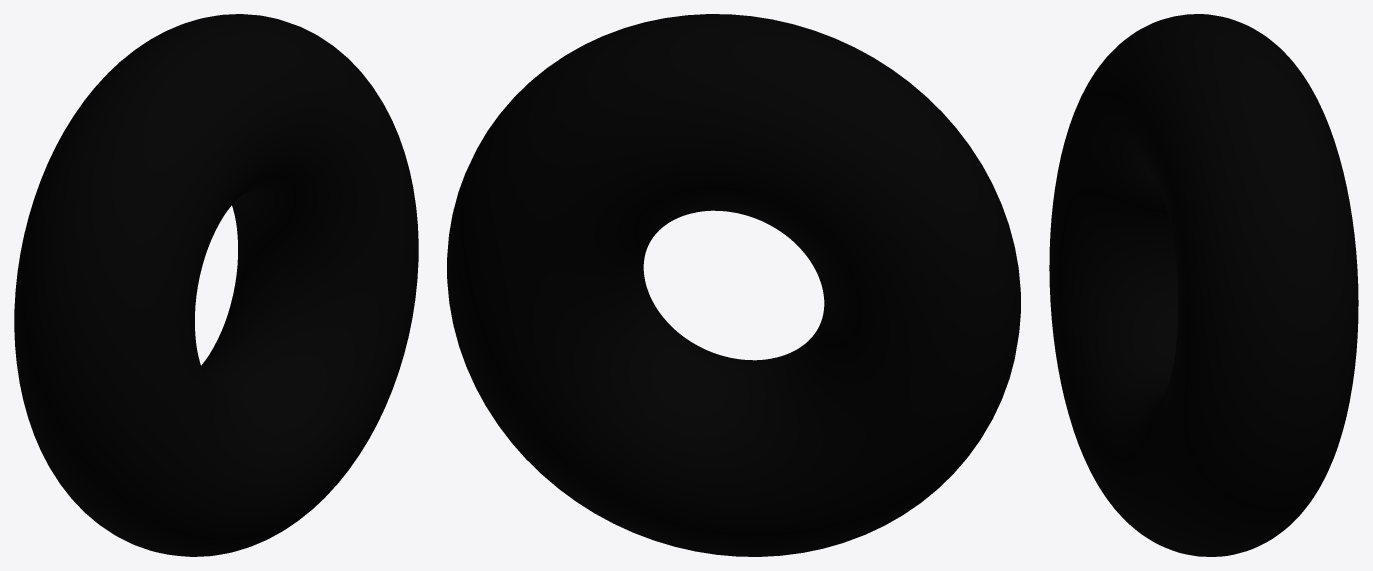
Rendered from donitsivalmis1.fbx.
The picture shows the model from 3 angles, left to right: view 1: azimuth 30°, elevation 25°; view 2: azimuth 150°, elevation 25°; view 3: azimuth 270°, elevation 25°; orthographic projection. The views are drawn at different scales.
Visible parts, largest first — view 1: root; view 2: root; view 3: root.
Part boxes in pixels (<box>): root: <box>14,14,418,556</box>; root: <box>447,14,1020,556</box>; root: <box>1049,14,1358,556</box>.
Bounding box in the file's own units: 0.5427 × 0.5836 × 0.3305.
1 material, 1 textured.
